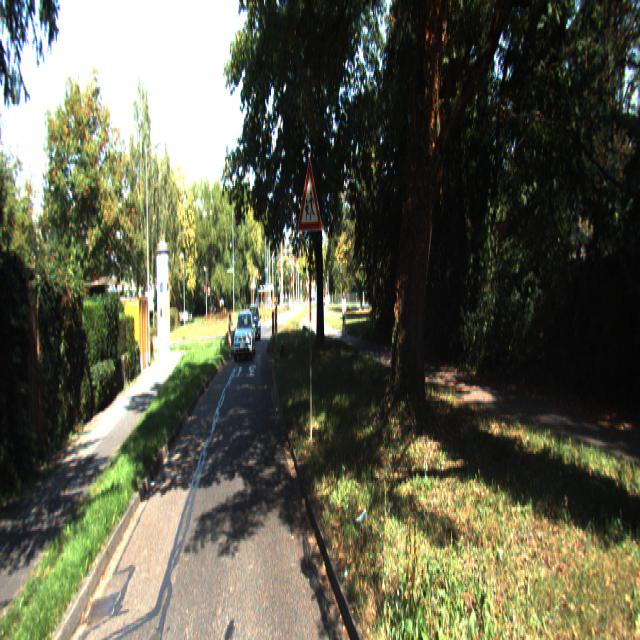Car: (233, 304, 254, 358)
